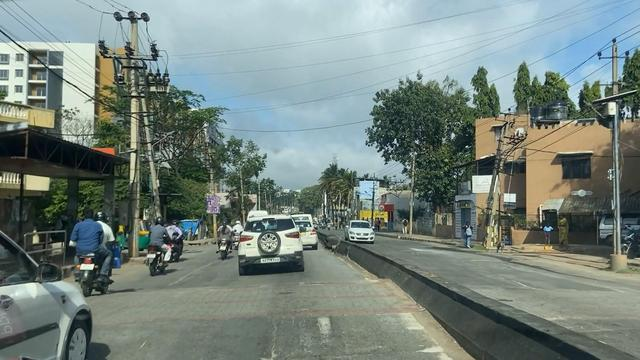LMV: (239, 216, 302, 273), (75, 215, 113, 291), (149, 223, 169, 273), (218, 222, 233, 260)
RoadDamages: (167, 263, 214, 285)
SpeedBump: (105, 283, 447, 353)
